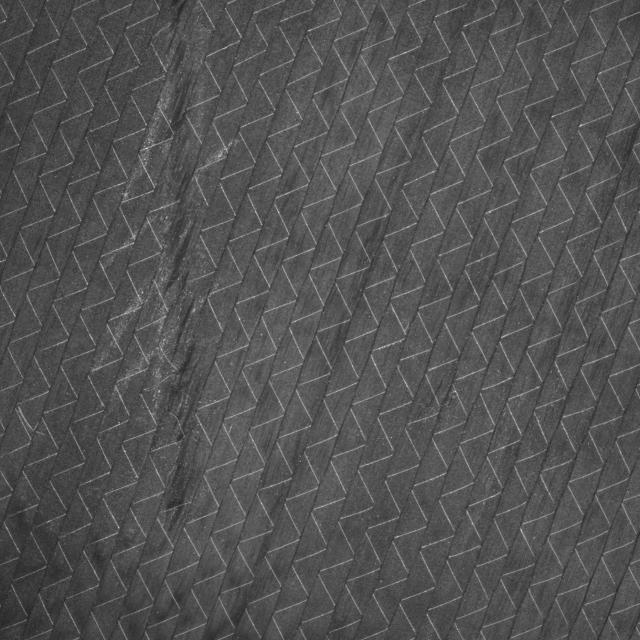carbon-fibre-defect: (153, 0, 203, 498)
